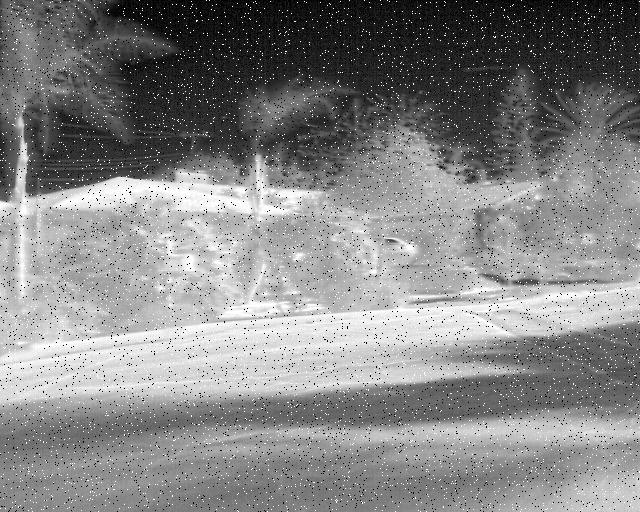car: (377, 237, 423, 264)
